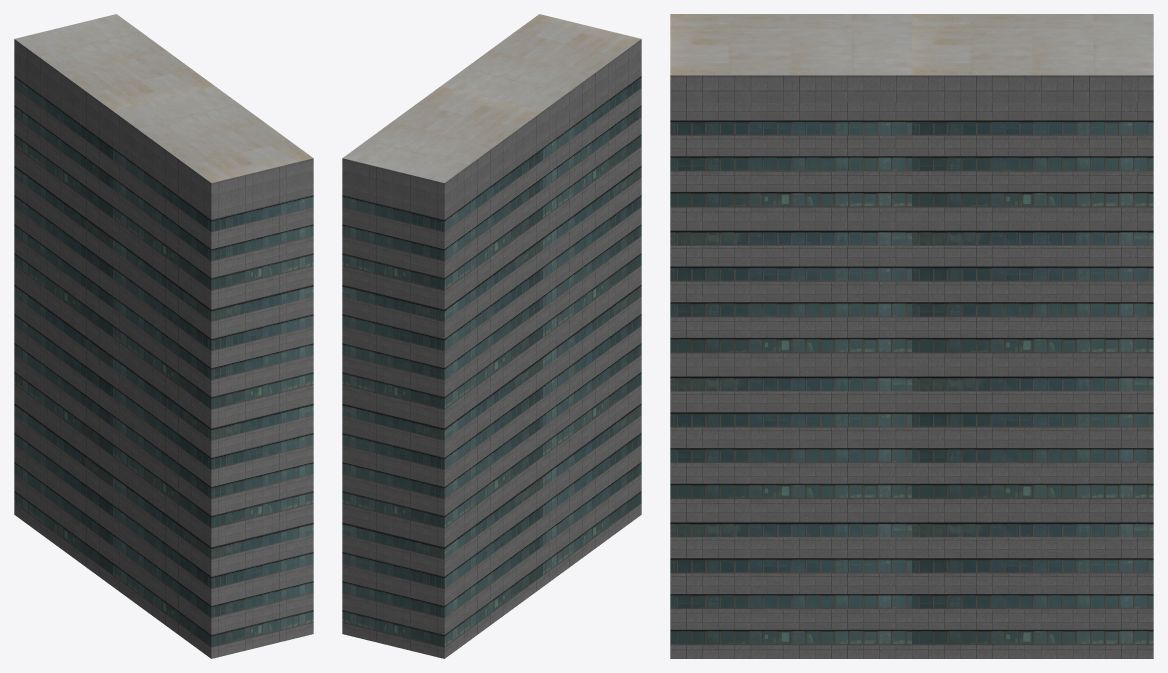
File: Pizza_Delivery house40.fbx
The picture shows the model from 3 angles, left to right: view 1: azimuth 30°, elevation 25°; view 2: azimuth 150°, elevation 25°; view 3: azimuth 270°, elevation 25°; orthographic projection. The views are drawn at different scales.
Visible parts, largest first — view 1: Pizza_Delivery:Pizza_Delivery:house40; view 2: Pizza_Delivery:Pizza_Delivery:house40; view 3: Pizza_Delivery:Pizza_Delivery:house40.
Part boxes in pixels (x1=…): Pizza_Delivery:Pizza_Delivery:house40: x1=14, y1=14, x2=313, y2=658; Pizza_Delivery:Pizza_Delivery:house40: x1=342, y1=14, x2=641, y2=658; Pizza_Delivery:Pizza_Delivery:house40: x1=670, y1=14, x2=1153, y2=658.
Bounding box in the file's own units: 6.46 × 28.75 × 21.58.
